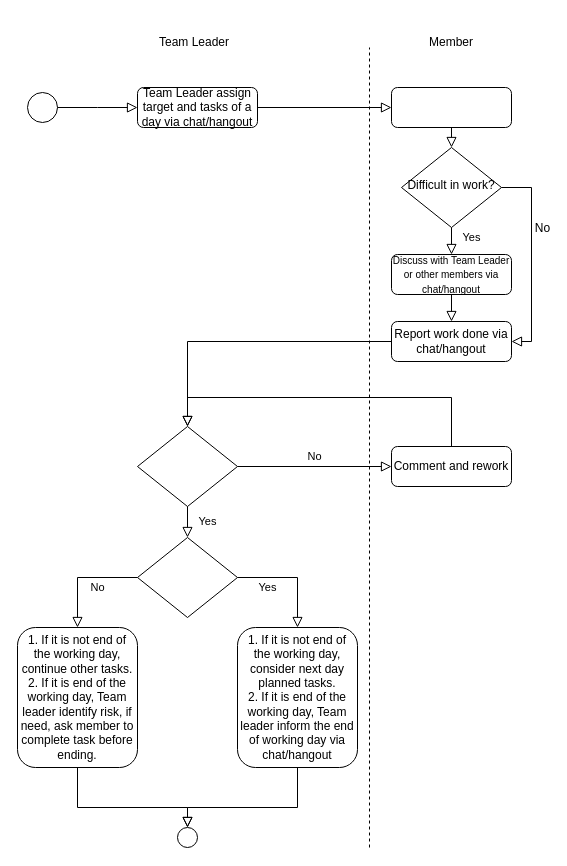
Image size: 567x866. Some labels were removed from this diagram. Each missing label, with the box of its shape:
Member do task remote: (390, 86, 512, 128)
Target work of a day complete?: (136, 536, 238, 618)
Task done OK?: (136, 426, 238, 506)
